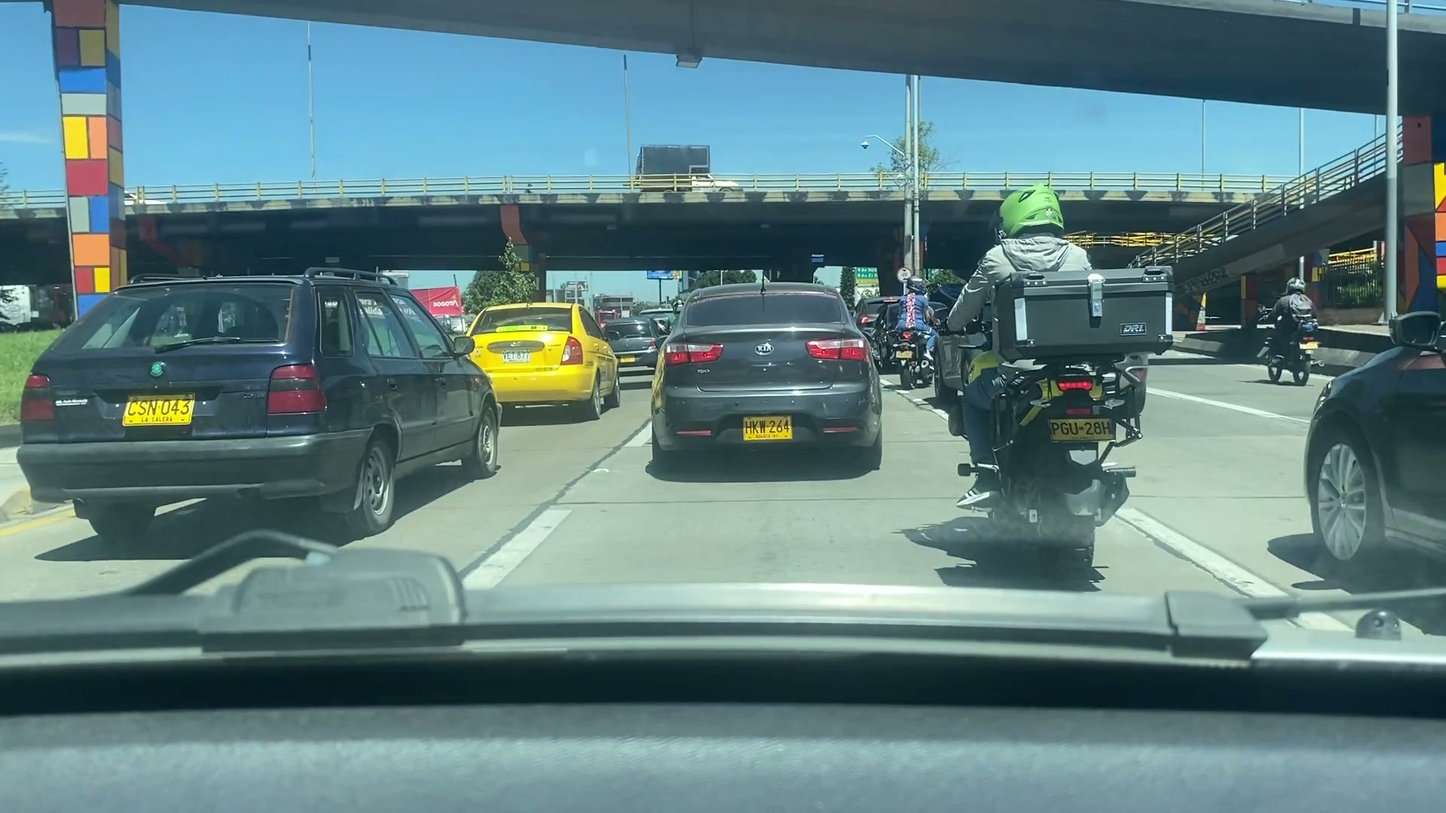car: (17, 267, 502, 528), (646, 283, 888, 473), (1302, 304, 1446, 550), (458, 301, 622, 414), (600, 319, 668, 373)
motorcycle: (946, 359, 1153, 583), (1250, 317, 1324, 395), (890, 329, 938, 388)
person: (960, 175, 1115, 512), (1274, 273, 1317, 363), (904, 276, 937, 360)
